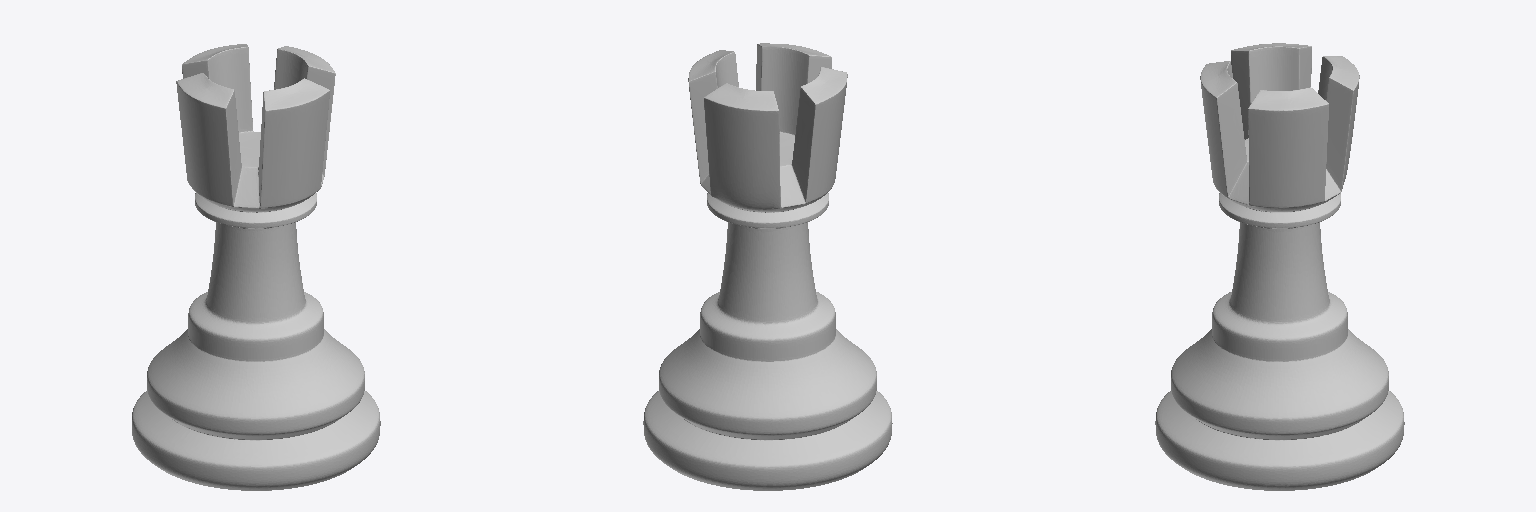
Rendered from rook-white-cube.obj.
3 views of the same model, side by side, from view 1: azimuth 30°, elevation 25°; view 2: azimuth 150°, elevation 25°; view 3: azimuth 270°, elevation 25° (orthographic).
Parts seen in each view (by area): view 1: Group7299; view 2: Group7299; view 3: Group7299.
Part boxes in pixels (x1,y1,x2,y2): Group7299: (132,44,380,490); Group7299: (643,43,892,490); Group7299: (1155,43,1404,490).
Bounding box in the file's own units: 0.9674 × 1.6 × 0.9674.